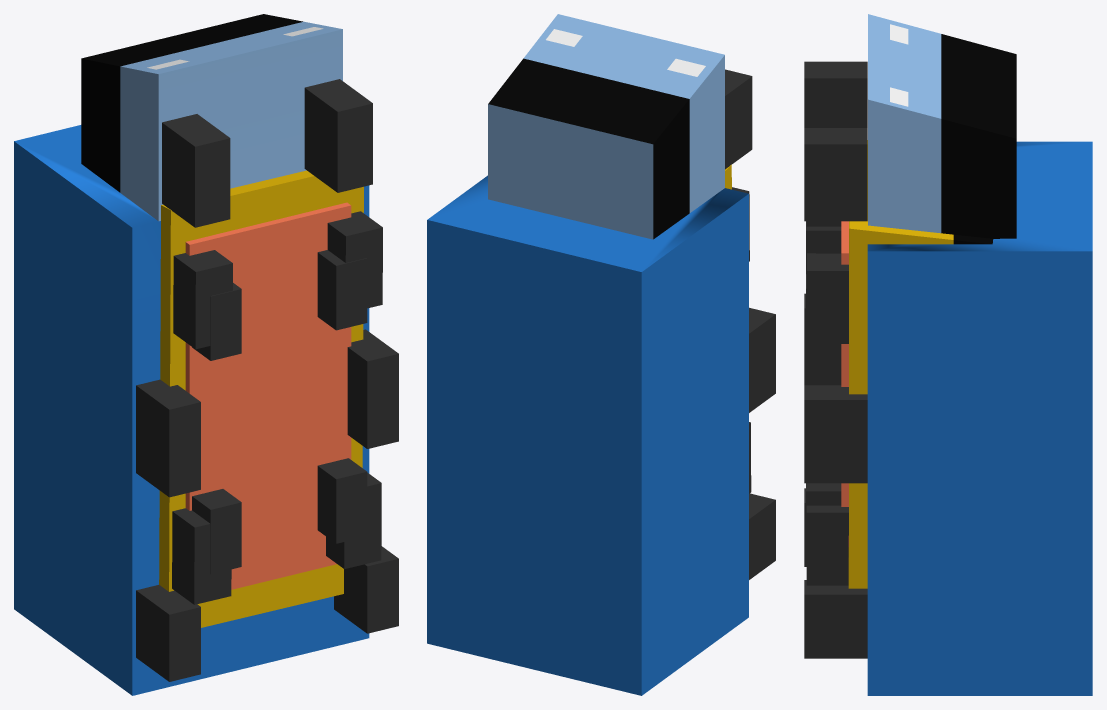
The model's file is commuters.fbx.
3 views of the same model, side by side, from view 1: azimuth 30°, elevation 25°; view 2: azimuth 150°, elevation 25°; view 3: azimuth 270°, elevation 25° (orthographic). The views are drawn at different scales.
Visible parts, largest first — view 1: truck, car, bus; view 2: truck; view 3: truck, bus, car.
Boxes of the visible parts, x1,y1,x2,y2 form: truck: [14, 14, 398, 695]; car: [185, 202, 367, 589]; bus: [159, 170, 382, 627]; truck: [427, 14, 775, 695]; truck: [804, 14, 1092, 695]; bus: [806, 140, 993, 588]; car: [806, 221, 848, 552].
Bounding box in the file's own units: 0.6981 × 1.73 × 0.7744.
Materials: 2 (1 with a texture image).
